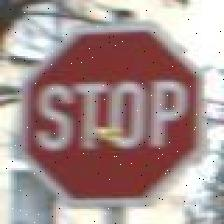Stop: (20, 20, 204, 204)
